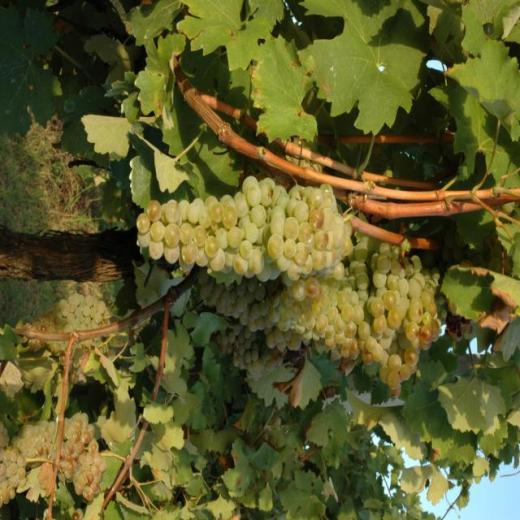Orange: (136, 137, 448, 396), (0, 412, 106, 502), (24, 296, 117, 386), (217, 325, 283, 382), (76, 508, 84, 520), (70, 510, 78, 520)
